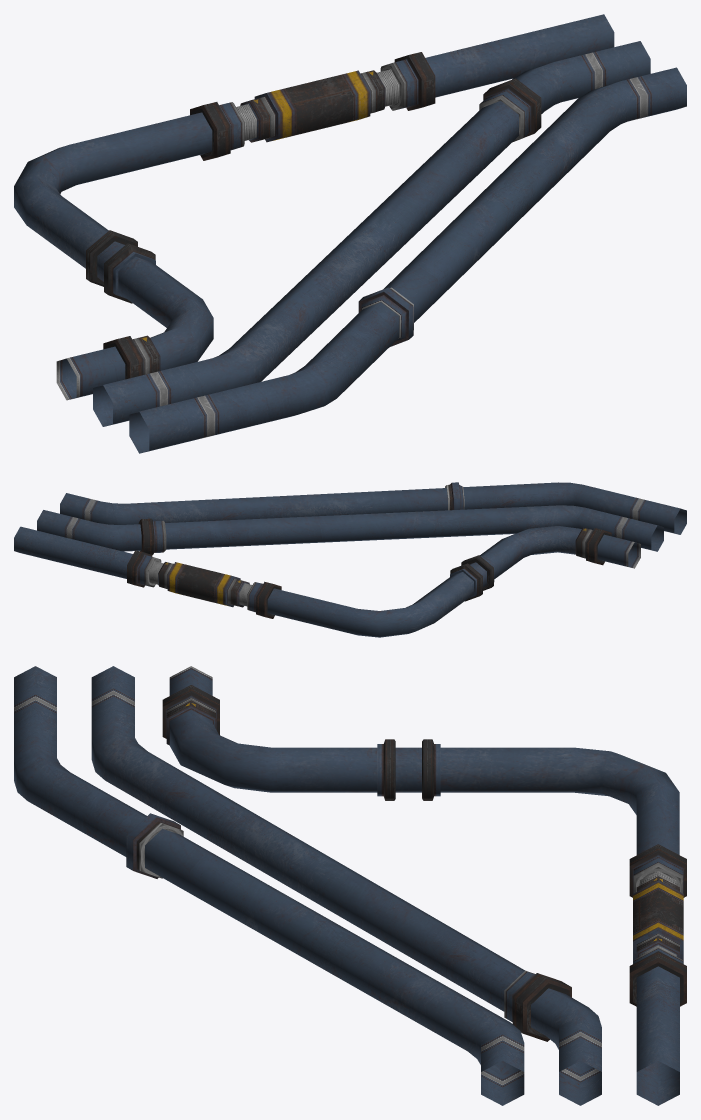
The model's file is Pipe3_Courner5_L1.fbx.
3 renders of one model, top to bottom at view 1: azimuth 30°, elevation 25°; view 2: azimuth 150°, elevation 25°; view 3: azimuth 270°, elevation 25°, orthographic. The views are drawn at different scales.
Parts seen in each view (by area): view 1: PIpe5_Courner4_L1; view 2: PIpe5_Courner4_L1; view 3: PIpe5_Courner4_L1.
Part boxes in pixels (x1,y1,x2,y2): PIpe5_Courner4_L1: [14, 14, 686, 453]; PIpe5_Courner4_L1: [14, 482, 686, 637]; PIpe5_Courner4_L1: [14, 666, 686, 1105].
Size of the model in its own units: 200 by 14.9 by 144.
